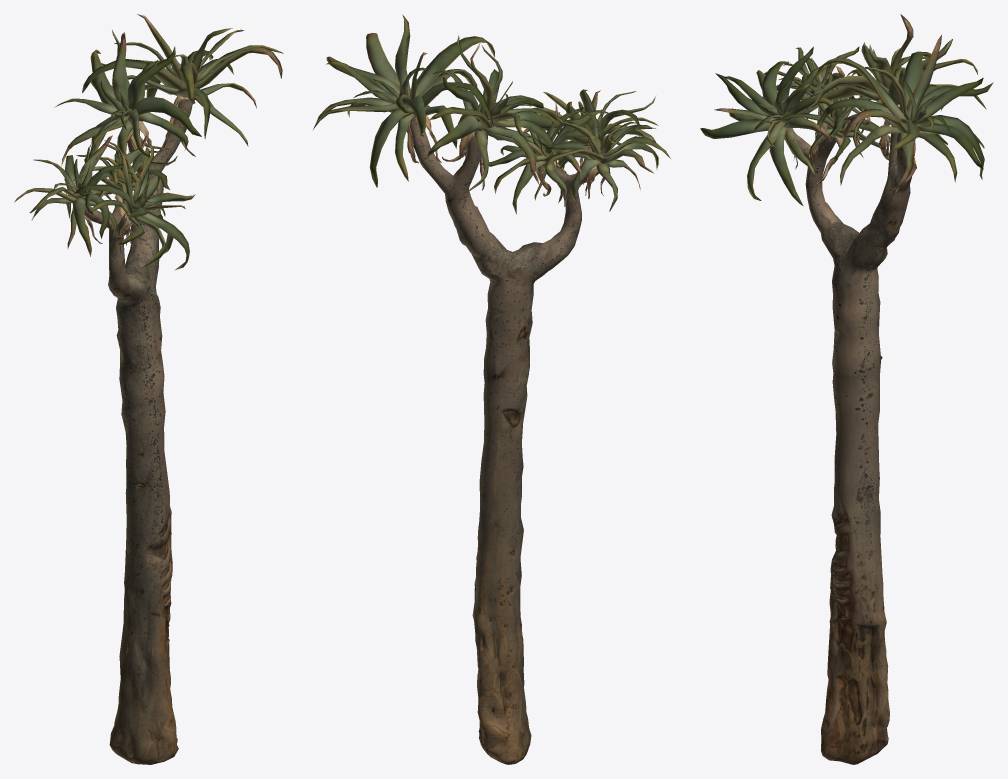
The model's file is quiver_tree_01.glb.
The picture shows the model from 3 angles, left to right: view 1: azimuth 30°, elevation 25°; view 2: azimuth 150°, elevation 25°; view 3: azimuth 270°, elevation 25°; orthographic projection. The views are drawn at different scales.
Visible parts, largest first — view 1: quiver_tree_01; view 2: quiver_tree_01; view 3: quiver_tree_01.
Boxes of the visible parts, x1,y1,x2,y2 form: quiver_tree_01: (14, 14, 283, 764); quiver_tree_01: (312, 14, 670, 764); quiver_tree_01: (700, 14, 993, 764).
Size of the model in its own units: 1.18 by 2.71 by 0.9702.
Materials: 2 (2 with a texture image).
